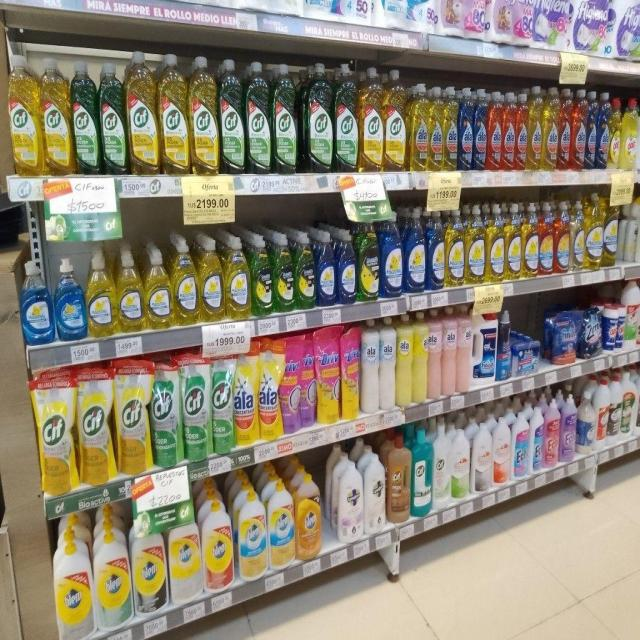ala_conc_amarillo: (409, 82, 428, 172), (428, 85, 443, 171), (443, 86, 458, 170), (543, 86, 558, 170), (528, 85, 542, 171), (609, 96, 621, 168)
ala_conc_azul: (459, 87, 473, 171), (474, 88, 487, 171), (597, 92, 609, 170), (586, 89, 596, 170)
ala_conc_rojo: (487, 90, 502, 171), (572, 88, 586, 169), (502, 91, 516, 171), (559, 86, 572, 170), (516, 91, 528, 171)
ala_crem_amarillo: (397, 312, 412, 408), (413, 311, 428, 404)
ala_crem_blanco: (361, 319, 379, 414), (380, 316, 396, 411)
ala_crem_rosado: (442, 306, 457, 398), (457, 304, 472, 394), (428, 307, 442, 400)
ala_sachet_amarillo: (235, 348, 258, 446), (258, 344, 280, 441)
cif_conc_bot_amarilla: (8, 53, 40, 177), (127, 50, 157, 176), (41, 56, 71, 176), (159, 52, 188, 176), (189, 54, 218, 176), (359, 65, 384, 172), (384, 68, 407, 172)
cif_conc_botella_verde: (302, 62, 332, 174), (272, 62, 299, 174), (245, 59, 271, 174), (72, 60, 98, 175), (100, 61, 126, 175), (219, 58, 244, 174), (334, 62, 358, 173)
cif_conc_sachet_amarillo: (38, 368, 76, 496), (78, 364, 114, 485), (115, 360, 150, 474)
cif_conc_sachet_verde: (152, 362, 180, 467), (182, 356, 210, 461), (212, 354, 234, 454)
drive: (317, 326, 340, 424), (341, 324, 360, 420), (282, 334, 300, 434)
magistral_con_amarillo: (87, 251, 116, 337), (145, 248, 172, 329), (173, 239, 198, 325), (118, 250, 144, 332), (199, 238, 224, 321), (226, 236, 250, 319), (486, 202, 505, 282), (466, 204, 485, 284), (446, 207, 464, 287), (506, 201, 522, 280), (522, 201, 538, 278), (586, 192, 602, 269), (604, 190, 618, 267), (570, 199, 584, 271)
magistral_con_azul: (21, 261, 53, 345), (56, 257, 86, 341), (404, 206, 426, 293), (381, 212, 403, 298), (427, 208, 445, 291), (337, 230, 357, 304), (317, 230, 336, 306)
magistral_con_crema: (236, 480, 267, 579), (268, 479, 294, 566)
magistral_con_rojo: (554, 200, 570, 273), (539, 200, 553, 276)
